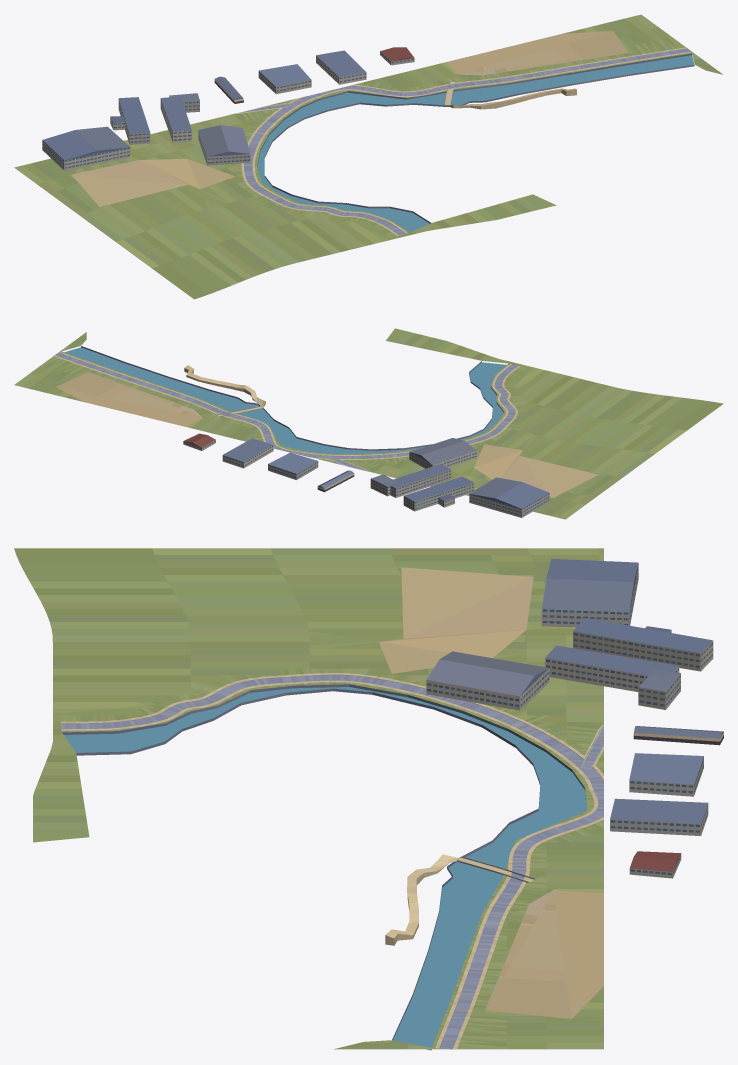
Rendered from ART_CastleApproach.glb.
3 views of the same model, one above another, from view 1: azimuth 30°, elevation 25°; view 2: azimuth 150°, elevation 25°; view 3: azimuth 270°, elevation 25° (orthographic). The views are drawn at different scales.
Parts seen in each view (by area): view 1: ART_CastleApproach; view 2: ART_CastleApproach; view 3: ART_CastleApproach.
Boxes of the visible parts, bbox=[...] form: ART_CastleApproach: bbox=[14, 14, 723, 299]; ART_CastleApproach: bbox=[14, 328, 723, 519]; ART_CastleApproach: bbox=[14, 548, 723, 1050].
Size of the model in its own units: 600 by 14 by 359.
